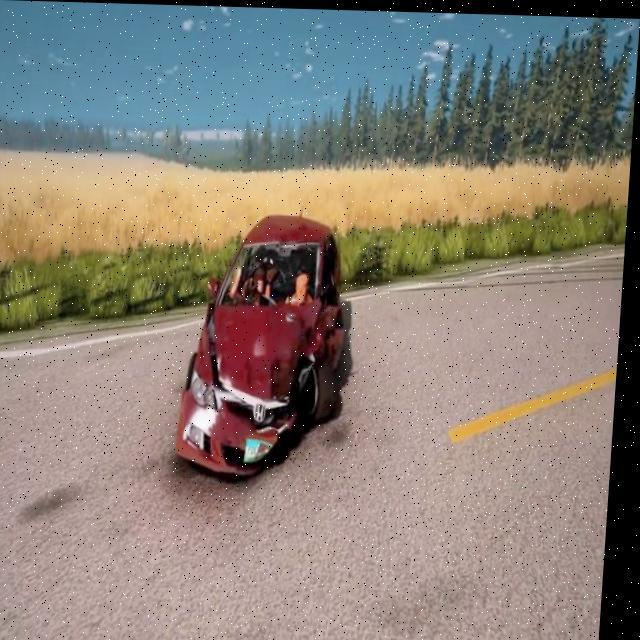multiple_accident: (170, 191, 359, 515)
